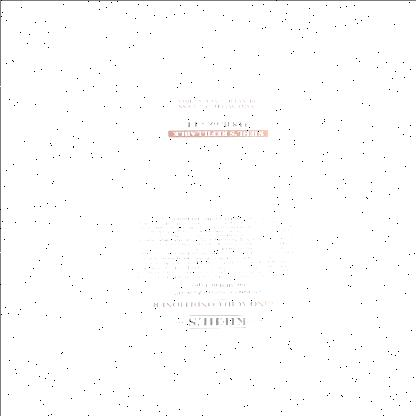Others: (67, 70, 349, 402)
